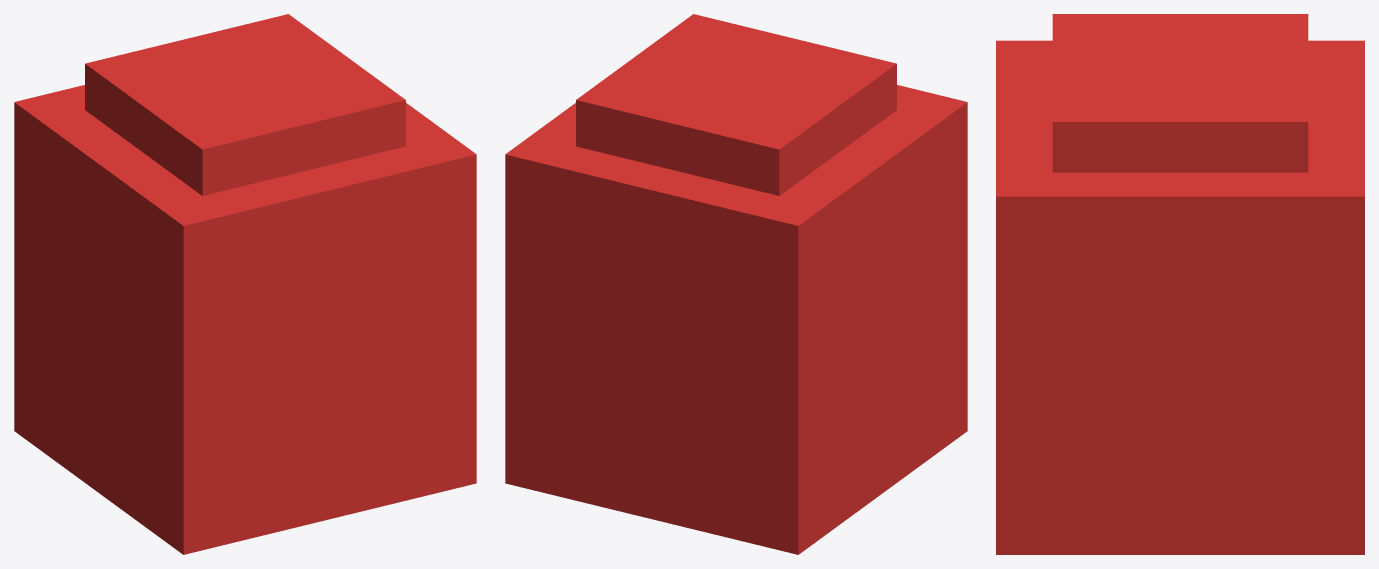
The model's file is Lego_Part_8.fbx.
3 renders of one model, left to right at view 1: azimuth 30°, elevation 25°; view 2: azimuth 150°, elevation 25°; view 3: azimuth 270°, elevation 25°, orthographic. The views are drawn at different scales.
Parts seen in each view (by area): view 1: Lego_Part_8; view 2: Lego_Part_8; view 3: Lego_Part_8.
Part boxes in pixels (x1,y1,x2,y2): Lego_Part_8: [14, 14, 476, 554]; Lego_Part_8: [505, 14, 967, 554]; Lego_Part_8: [996, 14, 1364, 554].
Size of the model in its own units: 2.08 by 2.54 by 2.08.
1 material, 1 textured.
